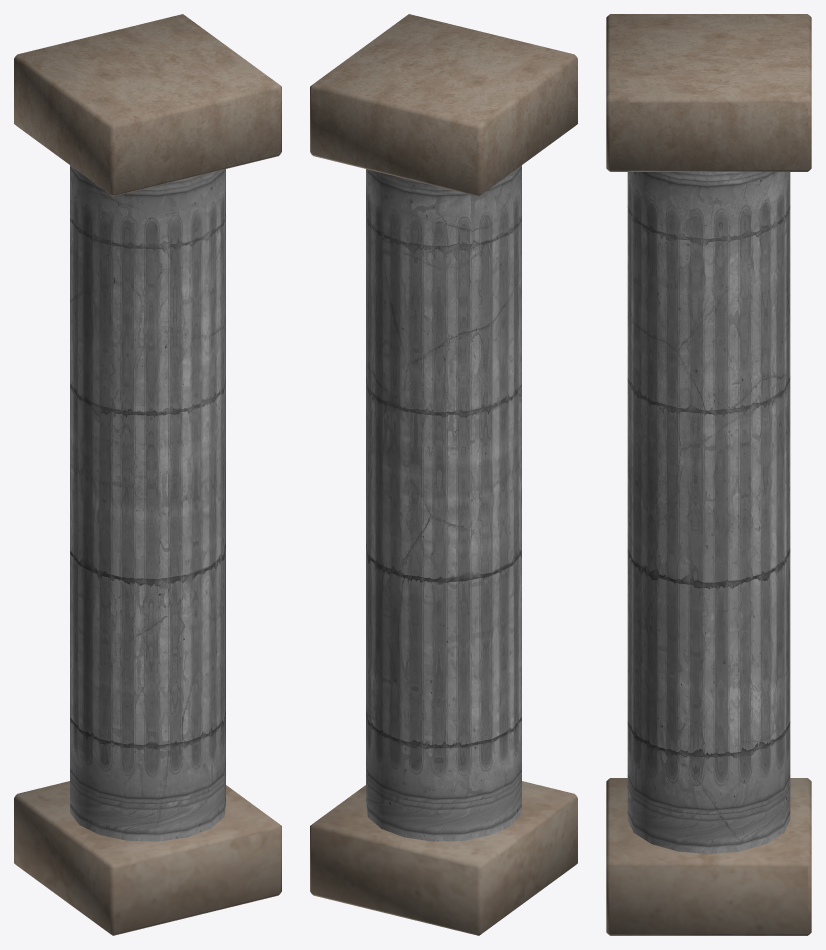
File: pillar.gltf
3 views of the same model, side by side, from view 1: azimuth 30°, elevation 25°; view 2: azimuth 150°, elevation 25°; view 3: azimuth 270°, elevation 25° (orthographic). The views are drawn at different scales.
Visible parts, largest first — view 1: Cube; view 2: Cube; view 3: Cube.
Part boxes in pixels (x1,y1,x2,y2): Cube: (14, 14, 281, 935); Cube: (310, 14, 577, 935); Cube: (606, 14, 811, 935).
Size of the model in its own units: 2 by 9 by 2.
Materials: 2 (2 with a texture image).
